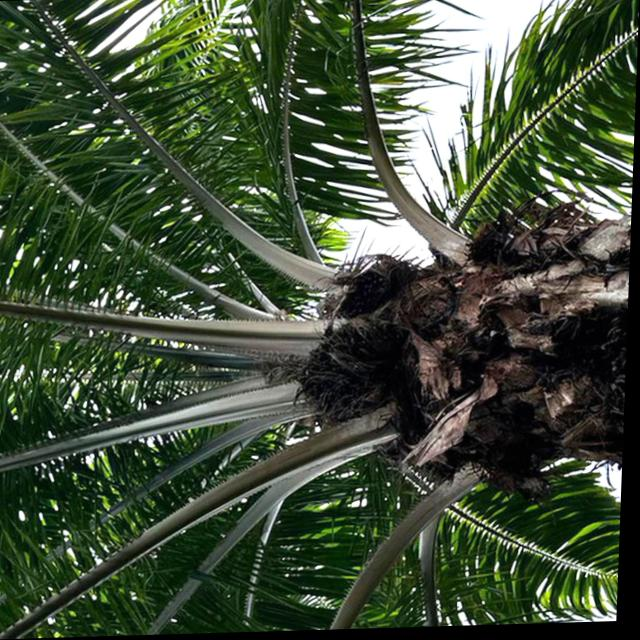almost: (293, 318, 415, 428)
